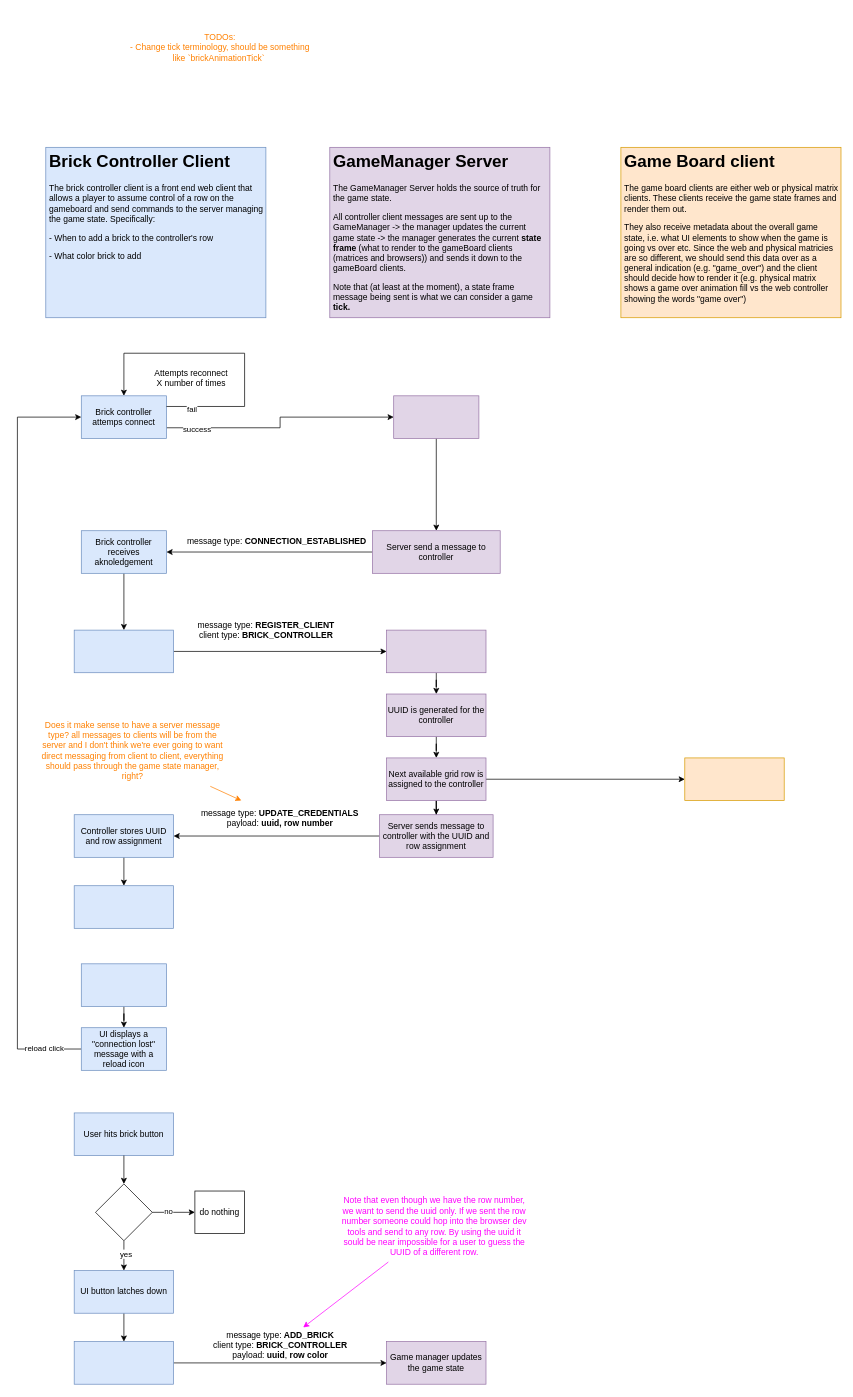
Some shapes in this 853 by 1397 pixel diagram are drawn without their labels. The shapes that lost their labels are listed below. From the top down, each one's centre as x and y in pixels, then its label:
At [436,416]: "Server adds event listeners to socket connections".
At [123,651]: "Row controller sends registration message as".
At [436,651]: "Server registers controller's socket as a brick controller".
At [734,779]: "Grid state is updated to add a new row".
At [123,906]: "UI is updated to enable button, show row row number, allow color selection".
At [123,984]: "Client checks for websocket close event".
At [123,1212]: "button press enabled?".
At [123,1362]: "client messages to server".
